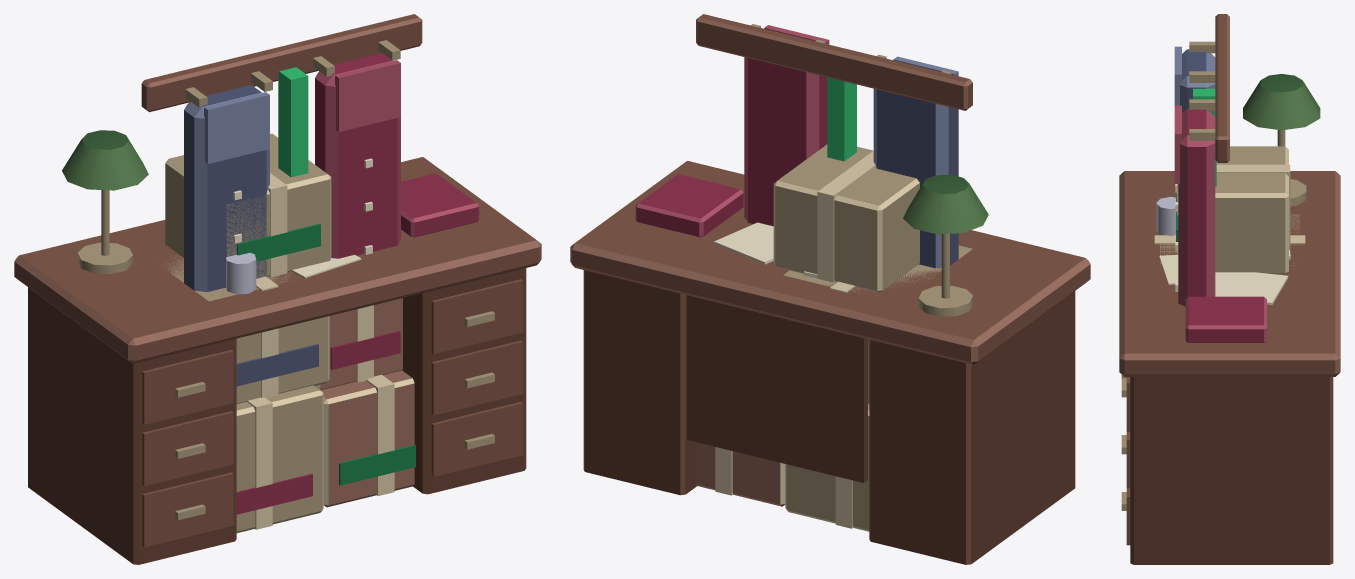
The model's file is Decor_Office.fbx.
The picture shows the model from 3 angles, left to right: view 1: azimuth 30°, elevation 25°; view 2: azimuth 150°, elevation 25°; view 3: azimuth 270°, elevation 25°; orthographic projection. The views are drawn at different scales.
Visible parts, largest first — view 1: Decor_Desk_6, Decor_Boxes, Decor_CoatHooks_4; view 2: Decor_Desk_6, Decor_CoatHooks_4, Decor_Boxes; view 3: Decor_Desk_6, Decor_CoatHooks_4, Decor_Boxes.
Boxes of the visible parts, left/top/right/bottom form: Decor_Desk_6: left=14, top=130, right=541, bottom=564; Decor_Boxes: left=163, top=133, right=415, bottom=532; Decor_CoatHooks_4: left=141, top=14, right=422, bottom=291; Decor_Desk_6: left=570, top=161, right=1090, bottom=564; Decor_CoatHooks_4: left=696, top=14, right=972, bottom=268; Decor_Boxes: left=695, top=144, right=972, bottom=531; Decor_Desk_6: left=1119, top=74, right=1340, bottom=564; Decor_CoatHooks_4: left=1174, top=14, right=1229, bottom=306; Decor_Boxes: left=1154, top=146, right=1305, bottom=273.
Bounding box in the file's own units: 6 × 6 × 3.
Materials: 1 (1 with a texture image).
